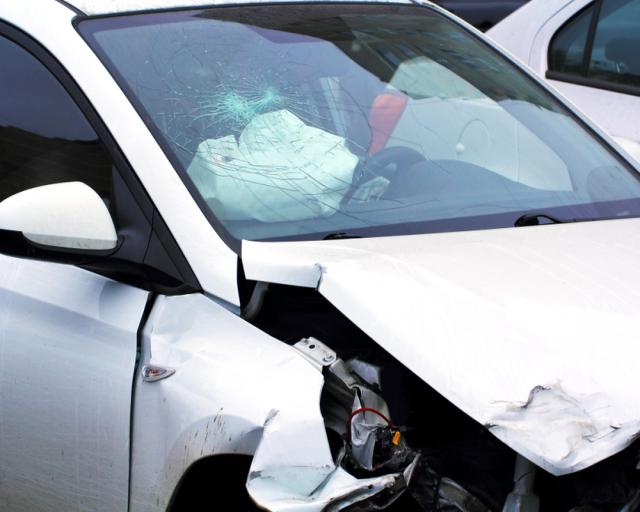dent: (246, 408, 387, 512), (485, 385, 640, 474), (150, 295, 246, 388), (289, 262, 339, 293)
glass shatter: (79, 3, 640, 255)
